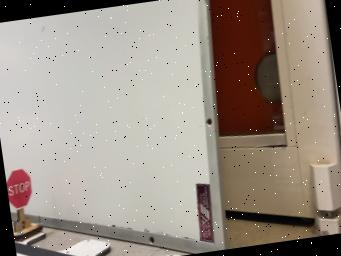stop: (6, 168, 42, 242), (6, 168, 42, 242), (6, 168, 42, 242), (6, 168, 42, 242), (6, 168, 42, 242), (6, 168, 42, 242)
street: (14, 242, 74, 256), (14, 242, 74, 256), (14, 242, 74, 256), (14, 242, 74, 256), (14, 242, 74, 256), (14, 242, 74, 256)
